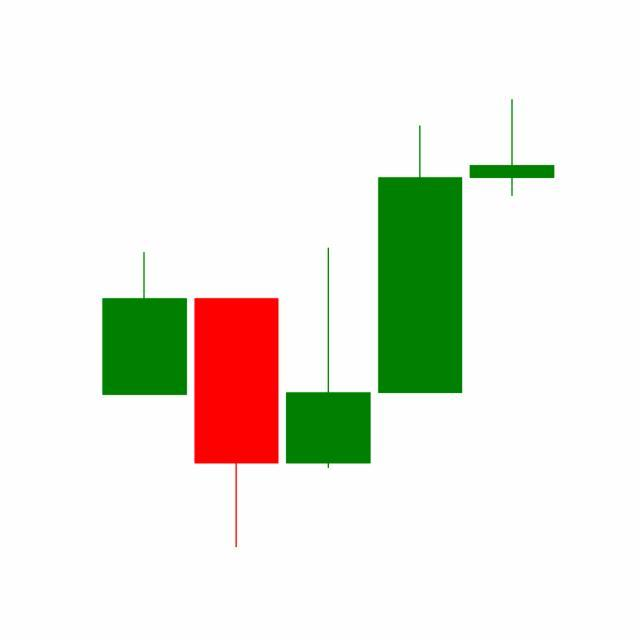Spinning Top: (466, 98, 559, 198)
